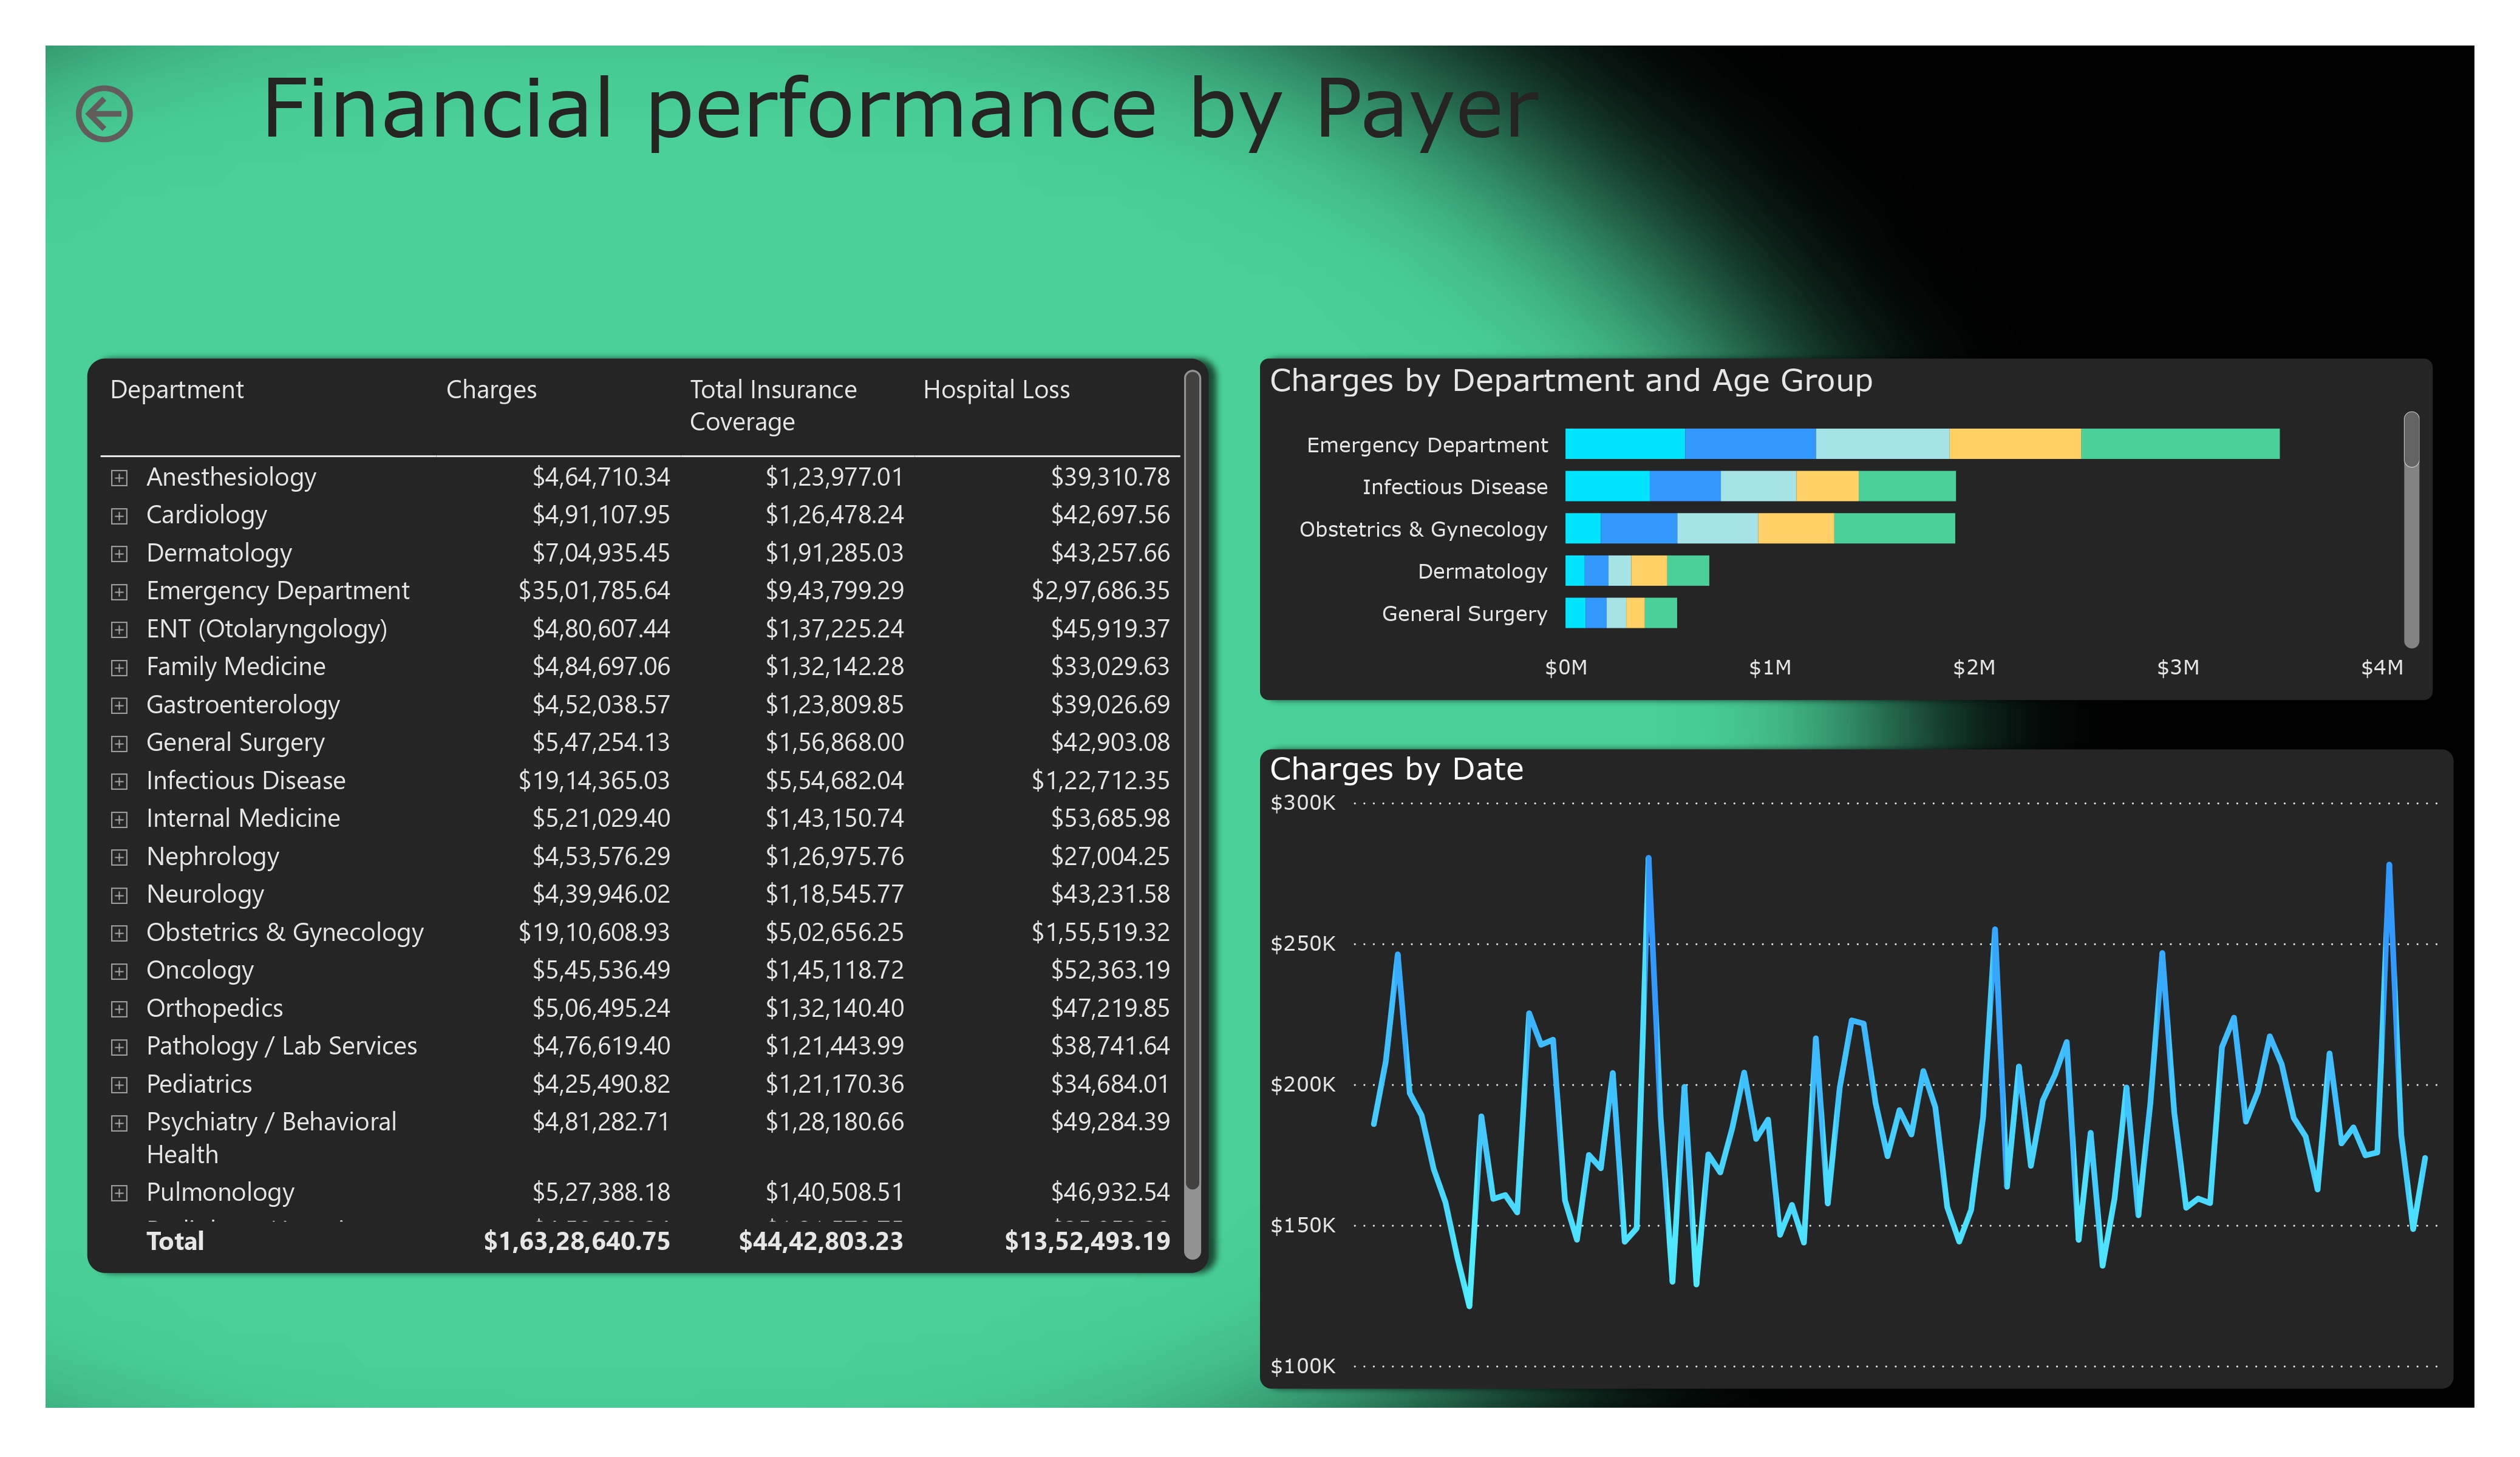

The page's visual inventory and layout, read from the dashboard file:
{"tool":"powerbi","page":{"name":"Financial Performance details","canvas":[1280,720],"ordinal":7},"visuals":[{"type":"actionButton","box":[11.2,16.2,75,40],"z":0},{"type":"textbox","box":[100,0,700,72.5],"z":1000},{"type":"pivotTable","fields":{"Rows":["Encounters.department","Patients.Full Name"],"Values":["_Measures.Total Charges","_Measures.Total Insurance Coverage","_Measures.Hospital Loss"]},"box":[23.8,166.2,590,478.8],"z":2000},{"type":"barChart","title":"Charges by Department and Age Group","fields":{"Category":["Encounters.department"],"Y":["_Measures.Total Charges"],"Series":["Patients.Age Group"]},"box":[640,166.2,616.2,177.5],"z":3000},{"type":"lineChart","title":"Charges by Date","fields":{"Y":["_Measures.Total Charges"],"Category":["Calendar.Date"]},"box":[640,371.2,628.8,337.5],"z":4000}]}

Visuals, with their boxes on the page's 1280x720 design canvas (x1, y1, x2, y2). These are canvas units, not pixel positions in the 2520x1457 screenshot, which may show the page scaled, cropped or inside an application window:
actionButton: region(11, 16, 86, 56)
textbox: region(100, 0, 800, 72)
pivotTable - Encounters.department x Patients.Full Name: region(24, 166, 614, 645)
"Charges by Department and Age Group" barChart: region(640, 166, 1256, 344)
"Charges by Date" lineChart: region(640, 371, 1269, 709)
